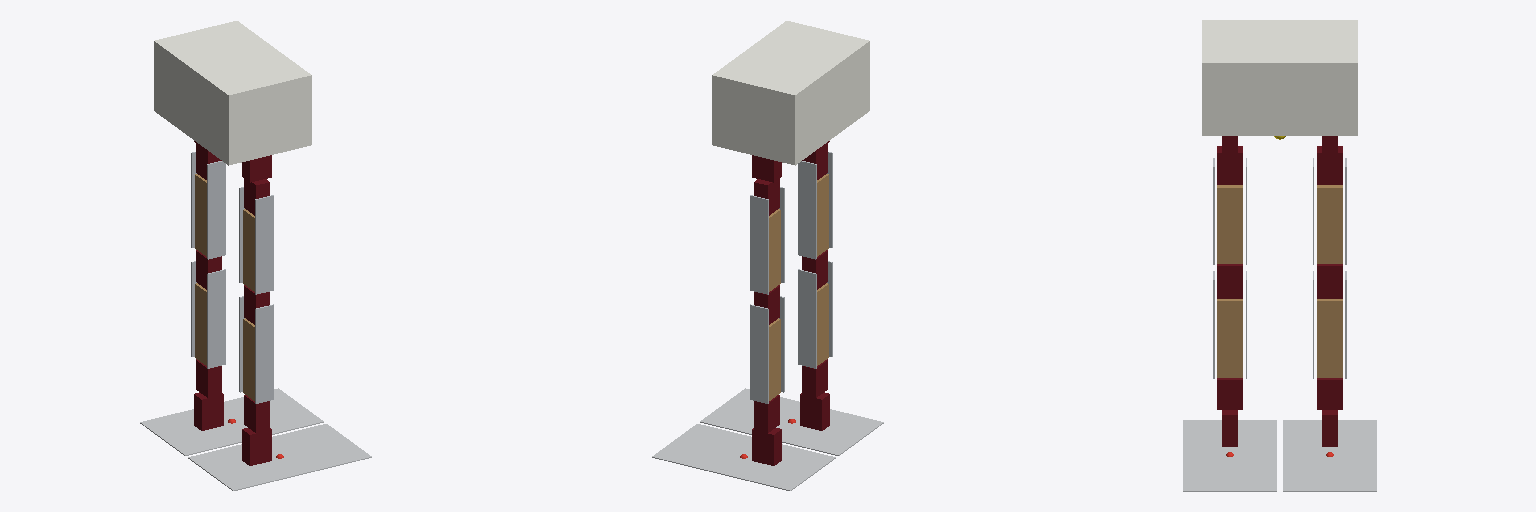
URDF robot description (yuuki_biped):
<?xml version="1.0"?>
<!--
  yuuki_biped
  generate_urdf.py が yuuki_biped.yaml から生成した。このファイルは手で編集しない。

  原点: 股ロール軸の高さ、左右中央。カゴの箱はその 0.017 m 上から始まる。
  x 前、y 左、z 上。ベースは地面に固定していない。
  股ロール軸: x=0 m, y=±0.09 m
  サーボ軸間（板なし）: 0.065 m
  腿・脛の軸間: 0.226 m
  直立時、原点から足裏まで: 0.64 m
  直立時、足裏からカゴ天面まで: 0.802 m
  総質量（参照フレームの微小質量を含む）: 4.6543 kg

  関節の原点は寸法式のまま。衝突箱は clearance だけ離し、サーボが板や電池や隣のサーボに入らない。
  股と足首のサーボは下端だけ短くして、次のサーボとのあいだに金具の隙間を空ける。
  ロール軸のサーボ（股ロール、足首ロール）はケースを 90 度回し、隣のピッチサーボと互い違いにする。
  電池はセル寸法ではなく、側板のあいだのダンボール。質量はセルのまま。
-->
<robot name="yuuki_biped">
  <link name="basket">
    <inertial>
      <origin xyz="0 0 0.0895" rpy="0 0 0"/>
      <mass value="0.6"/>
      <inertia ixx="0.004971" ixy="0" ixz="0" iyy="0.002671" iyz="0" izz="0.00554"/>
    </inertial>
    <visual name="basket_basket_0">
      <origin xyz="0 0 0.0895" rpy="0 0 0"/>
      <geometry>
        <box size="0.18 0.28 0.145"/>
      </geometry>
      <material>
        <color rgba="0.93 0.93 0.9 1"/>
      </material>
    </visual>
    <collision name="basket_basket_0">
      <origin xyz="0 0 0.0895" rpy="0 0 0"/>
      <geometry>
        <box size="0.18 0.28 0.145"/>
      </geometry>
    </collision>
  </link>
  <link name="imu_link">
    <inertial>
      <origin xyz="0 0 0" rpy="0 0 0"/>
      <mass value="0.0001"/>
      <inertia ixx="0" ixy="0" ixz="0" iyy="0" iyz="0" izz="0"/>
    </inertial>
    <visual name="imu_link_imu_0">
      <origin xyz="0 0 0" rpy="0 0 0"/>
      <geometry>
        <sphere radius="0.012"/>
      </geometry>
      <material>
        <color rgba="0.95 0.85 0.15 1"/>
      </material>
    </visual>
  </link>
  <link name="left_hip">
    <inertial>
      <origin xyz="0 0 -0.0175" rpy="0 0 0"/>
      <mass value="0.18"/>
      <inertia ixx="0.000069" ixy="0" ixz="0" iyy="0.00009" iyz="0" izz="0.000048"/>
    </inertial>
    <visual name="left_hip_servo_0">
      <origin xyz="0 0 -0.0175" rpy="0 0 0"/>
      <geometry>
        <box size="0.048 0.03 0.061"/>
      </geometry>
      <material>
        <color rgba="0.45 0.12 0.16 1"/>
      </material>
    </visual>
    <collision name="left_hip_servo_0">
      <origin xyz="0 0 -0.0175" rpy="0 0 0"/>
      <geometry>
        <box size="0.048 0.03 0.061"/>
      </geometry>
    </collision>
  </link>
  <link name="left_thigh">
    <inertial>
      <origin xyz="0 0 -0.09459" rpy="0 0 0"/>
      <mass value="0.608"/>
      <inertia ixx="0.002741" ixy="0" ixz="0" iyy="0.002595" iyz="0" izz="0.000258"/>
    </inertial>
    <visual name="left_thigh_servo_0">
      <origin xyz="0 0 -0.0195" rpy="0 0 0"/>
      <geometry>
        <box size="0.03 0.048 0.065"/>
      </geometry>
      <material>
        <color rgba="0.45 0.12 0.16 1"/>
      </material>
    </visual>
    <collision name="left_thigh_servo_0">
      <origin xyz="0 0 -0.0195" rpy="0 0 0"/>
      <geometry>
        <box size="0.03 0.048 0.065"/>
      </geometry>
    </collision>
    <visual name="left_thigh_plate_1">
      <origin xyz="0 0.0295 -0.111" rpy="0 0 0"/>
      <geometry>
        <box size="0.04 0.003 0.196"/>
      </geometry>
      <material>
        <color rgba="0.78 0.8 0.82 1"/>
      </material>
    </visual>
    <collision name="left_thigh_plate_1">
      <origin xyz="0 0.0295 -0.111" rpy="0 0 0"/>
      <geometry>
        <box size="0.04 0.003 0.196"/>
      </geometry>
    </collision>
    <visual name="left_thigh_plate_2">
      <origin xyz="0 -0.0295 -0.111" rpy="0 0 0"/>
      <geometry>
        <box size="0.04 0.003 0.196"/>
      </geometry>
      <material>
        <color rgba="0.78 0.8 0.82 1"/>
      </material>
    </visual>
    <collision name="left_thigh_plate_2">
      <origin xyz="0 -0.0295 -0.111" rpy="0 0 0"/>
      <geometry>
        <box size="0.04 0.003 0.196"/>
      </geometry>
    </collision>
    <visual name="left_thigh_battery_3">
      <origin xyz="0 0 -0.1325" rpy="0 0 0"/>
      <geometry>
        <box size="0.032 0.048 0.153"/>
      </geometry>
      <material>
        <color rgba="0.72 0.58 0.4 1"/>
      </material>
    </visual>
    <collision name="left_thigh_battery_3">
      <origin xyz="0 0 -0.1325" rpy="0 0 0"/>
      <geometry>
        <box size="0.032 0.048 0.153"/>
      </geometry>
    </collision>
  </link>
  <link name="left_shin">
    <inertial>
      <origin xyz="0 0 -0.09459" rpy="0 0 0"/>
      <mass value="0.608"/>
      <inertia ixx="0.002741" ixy="0" ixz="0" iyy="0.002595" iyz="0" izz="0.000258"/>
    </inertial>
    <visual name="left_shin_servo_0">
      <origin xyz="0 0 -0.0195" rpy="0 0 0"/>
      <geometry>
        <box size="0.03 0.048 0.065"/>
      </geometry>
      <material>
        <color rgba="0.45 0.12 0.16 1"/>
      </material>
    </visual>
    <collision name="left_shin_servo_0">
      <origin xyz="0 0 -0.0195" rpy="0 0 0"/>
      <geometry>
        <box size="0.03 0.048 0.065"/>
      </geometry>
    </collision>
    <visual name="left_shin_plate_1">
      <origin xyz="0 0.0295 -0.111" rpy="0 0 0"/>
      <geometry>
        <box size="0.04 0.003 0.196"/>
      </geometry>
      <material>
        <color rgba="0.78 0.8 0.82 1"/>
      </material>
    </visual>
    <collision name="left_shin_plate_1">
      <origin xyz="0 0.0295 -0.111" rpy="0 0 0"/>
      <geometry>
        <box size="0.04 0.003 0.196"/>
      </geometry>
    </collision>
    <visual name="left_shin_plate_2">
      <origin xyz="0 -0.0295 -0.111" rpy="0 0 0"/>
      <geometry>
        <box size="0.04 0.003 0.196"/>
      </geometry>
      <material>
        <color rgba="0.78 0.8 0.82 1"/>
      </material>
    </visual>
    <collision name="left_shin_plate_2">
      <origin xyz="0 -0.0295 -0.111" rpy="0 0 0"/>
      <geometry>
        <box size="0.04 0.003 0.196"/>
      </geometry>
    </collision>
    <visual name="left_shin_battery_3">
      <origin xyz="0 0 -0.1325" rpy="0 0 0"/>
      <geometry>
        <box size="0.032 0.048 0.153"/>
      </geometry>
      <material>
        <color rgba="0.72 0.58 0.4 1"/>
      </material>
    </visual>
    <collision name="left_shin_battery_3">
      <origin xyz="0 0 -0.1325" rpy="0 0 0"/>
      <geometry>
        <box size="0.032 0.048 0.153"/>
      </geometry>
    </collision>
  </link>
  <link name="left_ankle">
    <inertial>
      <origin xyz="0 0 -0.0175" rpy="0 0 0"/>
      <mass value="0.18"/>
      <inertia ixx="0.00009" ixy="0" ixz="0" iyy="0.000069" iyz="0" izz="0.000048"/>
    </inertial>
    <visual name="left_ankle_servo_0">
      <origin xyz="0 0 -0.0175" rpy="0 0 0"/>
      <geometry>
        <box size="0.03 0.048 0.061"/>
      </geometry>
      <material>
        <color rgba="0.45 0.12 0.16 1"/>
      </material>
    </visual>
    <collision name="left_ankle_servo_0">
      <origin xyz="0 0 -0.0175" rpy="0 0 0"/>
      <geometry>
        <box size="0.03 0.048 0.061"/>
      </geometry>
    </collision>
  </link>
  <link name="left_foot">
    <inertial>
      <origin xyz="0.030044 0 -0.042033" rpy="0 0 0"/>
      <mass value="0.451"/>
      <inertia ixx="0.000882" ixy="0" ixz="0.000203" iyy="0.002553" iyz="0" izz="0.003004"/>
    </inertial>
    <visual name="left_foot_servo_0">
      <origin xyz="0 0 -0.0195" rpy="0 0 0"/>
      <geometry>
        <box size="0.048 0.03 0.065"/>
      </geometry>
      <material>
        <color rgba="0.45 0.12 0.16 1"/>
      </material>
    </visual>
    <collision name="left_foot_servo_0">
      <origin xyz="0 0 -0.0195" rpy="0 0 0"/>
      <geometry>
        <box size="0.048 0.03 0.065"/>
      </geometry>
    </collision>
    <visual name="left_foot_foot_plate_1">
      <origin xyz="0.05 0 -0.057" rpy="0 0 0"/>
      <geometry>
        <box size="0.3 0.17 0.002"/>
      </geometry>
      <material>
        <color rgba="0.82 0.83 0.84 1"/>
      </material>
    </visual>
    <collision name="left_foot_foot_plate_1">
      <origin xyz="0.05 0 -0.057" rpy="0 0 0"/>
      <geometry>
        <box size="0.3 0.17 0.002"/>
      </geometry>
    </collision>
  </link>
  <link name="left_sole">
    <inertial>
      <origin xyz="0 0 0" rpy="0 0 0"/>
      <mass value="0.0001"/>
      <inertia ixx="0" ixy="0" ixz="0" iyy="0" iyz="0" izz="0"/>
    </inertial>
    <visual name="left_sole_sole_marker_0">
      <origin xyz="0 0 0" rpy="0 0 0"/>
      <geometry>
        <sphere radius="0.008"/>
      </geometry>
      <material>
        <color rgba="0.85 0.25 0.2 1"/>
      </material>
    </visual>
  </link>
  <link name="right_hip">
    <inertial>
      <origin xyz="0 0 -0.0175" rpy="0 0 0"/>
      <mass value="0.18"/>
      <inertia ixx="0.000069" ixy="0" ixz="0" iyy="0.00009" iyz="0" izz="0.000048"/>
    </inertial>
    <visual name="right_hip_servo_0">
      <origin xyz="0 0 -0.0175" rpy="0 0 0"/>
      <geometry>
        <box size="0.048 0.03 0.061"/>
      </geometry>
      <material>
        <color rgba="0.45 0.12 0.16 1"/>
      </material>
    </visual>
    <collision name="right_hip_servo_0">
      <origin xyz="0 0 -0.0175" rpy="0 0 0"/>
      <geometry>
        <box size="0.048 0.03 0.061"/>
      </geometry>
    </collision>
  </link>
  <link name="right_thigh">
    <inertial>
      <origin xyz="0 0 -0.09459" rpy="0 0 0"/>
      <mass value="0.608"/>
      <inertia ixx="0.002741" ixy="0" ixz="0" iyy="0.002595" iyz="0" izz="0.000258"/>
    </inertial>
    <visual name="right_thigh_servo_0">
      <origin xyz="0 0 -0.0195" rpy="0 0 0"/>
      <geometry>
        <box size="0.03 0.048 0.065"/>
      </geometry>
      <material>
        <color rgba="0.45 0.12 0.16 1"/>
      </material>
    </visual>
    <collision name="right_thigh_servo_0">
      <origin xyz="0 0 -0.0195" rpy="0 0 0"/>
      <geometry>
        <box size="0.03 0.048 0.065"/>
      </geometry>
    </collision>
    <visual name="right_thigh_plate_1">
      <origin xyz="0 0.0295 -0.111" rpy="0 0 0"/>
      <geometry>
        <box size="0.04 0.003 0.196"/>
      </geometry>
      <material>
        <color rgba="0.78 0.8 0.82 1"/>
      </material>
    </visual>
    <collision name="right_thigh_plate_1">
      <origin xyz="0 0.0295 -0.111" rpy="0 0 0"/>
      <geometry>
        <box size="0.04 0.003 0.196"/>
      </geometry>
    </collision>
    <visual name="right_thigh_plate_2">
      <origin xyz="0 -0.0295 -0.111" rpy="0 0 0"/>
      <geometry>
        <box size="0.04 0.003 0.196"/>
      </geometry>
      <material>
        <color rgba="0.78 0.8 0.82 1"/>
      </material>
    </visual>
    <collision name="right_thigh_plate_2">
      <origin xyz="0 -0.0295 -0.111" rpy="0 0 0"/>
      <geometry>
        <box size="0.04 0.003 0.196"/>
      </geometry>
    </collision>
    <visual name="right_thigh_battery_3">
      <origin xyz="0 0 -0.1325" rpy="0 0 0"/>
      <geometry>
        <box size="0.032 0.048 0.153"/>
      </geometry>
      <material>
        <color rgba="0.72 0.58 0.4 1"/>
      </material>
    </visual>
    <collision name="right_thigh_battery_3">
      <origin xyz="0 0 -0.1325" rpy="0 0 0"/>
      <geometry>
        <box size="0.032 0.048 0.153"/>
      </geometry>
    </collision>
  </link>
  <link name="right_shin">
    <inertial>
      <origin xyz="0 0 -0.09459" rpy="0 0 0"/>
      <mass value="0.608"/>
      <inertia ixx="0.002741" ixy="0" ixz="0" iyy="0.002595" iyz="0" izz="0.000258"/>
    </inertial>
    <visual name="right_shin_servo_0">
      <origin xyz="0 0 -0.0195" rpy="0 0 0"/>
      <geometry>
        <box size="0.03 0.048 0.065"/>
      </geometry>
      <material>
        <color rgba="0.45 0.12 0.16 1"/>
      </material>
    </visual>
    <collision name="right_shin_servo_0">
      <origin xyz="0 0 -0.0195" rpy="0 0 0"/>
      <geometry>
        <box size="0.03 0.048 0.065"/>
      </geometry>
    </collision>
    <visual name="right_shin_plate_1">
      <origin xyz="0 0.0295 -0.111" rpy="0 0 0"/>
      <geometry>
        <box size="0.04 0.003 0.196"/>
      </geometry>
      <material>
        <color rgba="0.78 0.8 0.82 1"/>
      </material>
    </visual>
    <collision name="right_shin_plate_1">
      <origin xyz="0 0.0295 -0.111" rpy="0 0 0"/>
      <geometry>
        <box size="0.04 0.003 0.196"/>
      </geometry>
    </collision>
    <visual name="right_shin_plate_2">
      <origin xyz="0 -0.0295 -0.111" rpy="0 0 0"/>
      <geometry>
        <box size="0.04 0.003 0.196"/>
      </geometry>
      <material>
        <color rgba="0.78 0.8 0.82 1"/>
      </material>
    </visual>
    <collision name="right_shin_plate_2">
      <origin xyz="0 -0.0295 -0.111" rpy="0 0 0"/>
      <geometry>
        <box size="0.04 0.003 0.196"/>
      </geometry>
    </collision>
    <visual name="right_shin_battery_3">
      <origin xyz="0 0 -0.1325" rpy="0 0 0"/>
      <geometry>
        <box size="0.032 0.048 0.153"/>
      </geometry>
      <material>
        <color rgba="0.72 0.58 0.4 1"/>
      </material>
    </visual>
    <collision name="right_shin_battery_3">
      <origin xyz="0 0 -0.1325" rpy="0 0 0"/>
      <geometry>
        <box size="0.032 0.048 0.153"/>
      </geometry>
    </collision>
  </link>
  <link name="right_ankle">
    <inertial>
      <origin xyz="0 0 -0.0175" rpy="0 0 0"/>
      <mass value="0.18"/>
      <inertia ixx="0.00009" ixy="0" ixz="0" iyy="0.000069" iyz="0" izz="0.000048"/>
    </inertial>
    <visual name="right_ankle_servo_0">
      <origin xyz="0 0 -0.0175" rpy="0 0 0"/>
      <geometry>
        <box size="0.03 0.048 0.061"/>
      </geometry>
      <material>
        <color rgba="0.45 0.12 0.16 1"/>
      </material>
    </visual>
    <collision name="right_ankle_servo_0">
      <origin xyz="0 0 -0.0175" rpy="0 0 0"/>
      <geometry>
        <box size="0.03 0.048 0.061"/>
      </geometry>
    </collision>
  </link>
  <link name="right_foot">
    <inertial>
      <origin xyz="0.030044 0 -0.042033" rpy="0 0 0"/>
      <mass value="0.451"/>
      <inertia ixx="0.000882" ixy="0" ixz="0.000203" iyy="0.002553" iyz="0" izz="0.003004"/>
    </inertial>
    <visual name="right_foot_servo_0">
      <origin xyz="0 0 -0.0195" rpy="0 0 0"/>
      <geometry>
        <box size="0.048 0.03 0.065"/>
      </geometry>
      <material>
        <color rgba="0.45 0.12 0.16 1"/>
      </material>
    </visual>
    <collision name="right_foot_servo_0">
      <origin xyz="0 0 -0.0195" rpy="0 0 0"/>
      <geometry>
        <box size="0.048 0.03 0.065"/>
      </geometry>
    </collision>
    <visual name="right_foot_foot_plate_1">
      <origin xyz="0.05 0 -0.057" rpy="0 0 0"/>
      <geometry>
        <box size="0.3 0.17 0.002"/>
      </geometry>
      <material>
        <color rgba="0.82 0.83 0.84 1"/>
      </material>
    </visual>
    <collision name="right_foot_foot_plate_1">
      <origin xyz="0.05 0 -0.057" rpy="0 0 0"/>
      <geometry>
        <box size="0.3 0.17 0.002"/>
      </geometry>
    </collision>
  </link>
  <link name="right_sole">
    <inertial>
      <origin xyz="0 0 0" rpy="0 0 0"/>
      <mass value="0.0001"/>
      <inertia ixx="0" ixy="0" ixz="0" iyy="0" iyz="0" izz="0"/>
    </inertial>
    <visual name="right_sole_sole_marker_0">
      <origin xyz="0 0 0" rpy="0 0 0"/>
      <geometry>
        <sphere radius="0.008"/>
      </geometry>
      <material>
        <color rgba="0.85 0.25 0.2 1"/>
      </material>
    </visual>
  </link>
  <!-- IMU 候補の参照フレーム。位置は未確認。質量はほぼゼロ。 -->
  <joint name="imu_fixed" type="fixed">
    <parent link="basket"/>
    <child link="imu_link"/>
    <origin xyz="0 0 -0.02" rpy="0 0 0"/>
  </joint>
  <!-- 左股ロール。カゴ底面から股ロール軸まで。 -->
  <joint name="left_hip_roll" type="revolute">
    <parent link="basket"/>
    <child link="left_hip"/>
    <origin xyz="0 0.09 0" rpy="0 0 0"/>
    <axis xyz="1 0 0"/>
    <limit lower="-0.785398" upper="0.785398" effort="14.7" velocity="8"/>
    <dynamics damping="0" friction="0"/>
  </joint>
  <!-- 左股ピッチ。股ロール軸からサーボ1段分だけ下。 -->
  <joint name="left_hip_pitch" type="revolute">
    <parent link="left_hip"/>
    <child link="left_thigh"/>
    <origin xyz="0 0 -0.065" rpy="0 0 0"/>
    <axis xyz="0 1 0"/>
    <limit lower="-0.785398" upper="1.570796" effort="14.7" velocity="8"/>
    <dynamics damping="0" friction="0"/>
  </joint>
  <!-- 左膝。0 が伸び、正が後ろへの屈曲。 -->
  <joint name="left_knee_pitch" type="revolute">
    <parent link="left_thigh"/>
    <child link="left_shin"/>
    <origin xyz="0 0 -0.226" rpy="0 0 0"/>
    <axis xyz="0 1 0"/>
    <limit lower="0" upper="2.094395" effort="14.7" velocity="8"/>
    <dynamics damping="0" friction="0"/>
  </joint>
  <!-- 左足首ピッチ。膝から腿と同じ軸間距離だけ下。 -->
  <joint name="left_ankle_pitch" type="revolute">
    <parent link="left_shin"/>
    <child link="left_ankle"/>
    <origin xyz="0 0 -0.226" rpy="0 0 0"/>
    <axis xyz="0 1 0"/>
    <limit lower="-0.785398" upper="0.785398" effort="14.7" velocity="8"/>
    <dynamics damping="0" friction="0"/>
  </joint>
  <!-- 左足首ロール。足首ピッチ軸からサーボ1段分だけ下。 -->
  <joint name="left_ankle_roll" type="revolute">
    <parent link="left_ankle"/>
    <child link="left_foot"/>
    <origin xyz="0 0 -0.065" rpy="0 0 0"/>
    <axis xyz="1 0 0"/>
    <limit lower="-0.523599" upper="0.523599" effort="14.7" velocity="8"/>
    <dynamics damping="0" friction="0"/>
  </joint>
  <!-- 左足裏の下面中心。接触や接地判定の参照点。板の質量は left_foot 側。 -->
  <joint name="left_sole_fixed" type="fixed">
    <parent link="left_foot"/>
    <child link="left_sole"/>
    <origin xyz="0.05 0 -0.058" rpy="0 0 0"/>
  </joint>
  <!-- 右股ロール。カゴ底面から股ロール軸まで。 -->
  <joint name="right_hip_roll" type="revolute">
    <parent link="basket"/>
    <child link="right_hip"/>
    <origin xyz="0 -0.09 0" rpy="0 0 0"/>
    <axis xyz="-1 0 0"/>
    <limit lower="-0.785398" upper="0.785398" effort="14.7" velocity="8"/>
    <dynamics damping="0" friction="0"/>
  </joint>
  <!-- 右股ピッチ。股ロール軸からサーボ1段分だけ下。 -->
  <joint name="right_hip_pitch" type="revolute">
    <parent link="right_hip"/>
    <child link="right_thigh"/>
    <origin xyz="0 0 -0.065" rpy="0 0 0"/>
    <axis xyz="0 1 0"/>
    <limit lower="-0.785398" upper="1.570796" effort="14.7" velocity="8"/>
    <dynamics damping="0" friction="0"/>
  </joint>
  <!-- 右膝。0 が伸び、正が後ろへの屈曲。 -->
  <joint name="right_knee_pitch" type="revolute">
    <parent link="right_thigh"/>
    <child link="right_shin"/>
    <origin xyz="0 0 -0.226" rpy="0 0 0"/>
    <axis xyz="0 1 0"/>
    <limit lower="0" upper="2.094395" effort="14.7" velocity="8"/>
    <dynamics damping="0" friction="0"/>
  </joint>
  <!-- 右足首ピッチ。膝から腿と同じ軸間距離だけ下。 -->
  <joint name="right_ankle_pitch" type="revolute">
    <parent link="right_shin"/>
    <child link="right_ankle"/>
    <origin xyz="0 0 -0.226" rpy="0 0 0"/>
    <axis xyz="0 1 0"/>
    <limit lower="-0.785398" upper="0.785398" effort="14.7" velocity="8"/>
    <dynamics damping="0" friction="0"/>
  </joint>
  <!-- 右足首ロール。足首ピッチ軸からサーボ1段分だけ下。 -->
  <joint name="right_ankle_roll" type="revolute">
    <parent link="right_ankle"/>
    <child link="right_foot"/>
    <origin xyz="0 0 -0.065" rpy="0 0 0"/>
    <axis xyz="-1 0 0"/>
    <limit lower="-0.523599" upper="0.523599" effort="14.7" velocity="8"/>
    <dynamics damping="0" friction="0"/>
  </joint>
  <!-- 右足裏の下面中心。接触や接地判定の参照点。板の質量は right_foot 側。 -->
  <joint name="right_sole_fixed" type="fixed">
    <parent link="right_foot"/>
    <child link="right_sole"/>
    <origin xyz="0.05 0 -0.058" rpy="0 0 0"/>
  </joint>
</robot>

--- Facts derived from the render (not from the file) ---
3 views of the same robot in one strip: view 1: azimuth 30°, elevation 25°; view 2: azimuth 150°, elevation 25°; view 3: azimuth 270°, elevation 25° (orthographic).
Robot: yuuki_biped — 14 links, 13 joints (10 revolute, 3 fixed); root link basket; default pose: every joint at zero.
Links seen in each view (by area): view 1: basket, right_foot, left_foot, right_thigh, left_shin, right_shin, left_thigh, left_ankle, right_ankle, right_hip; view 2: basket, left_foot, right_foot, left_thigh, left_shin, right_shin, right_thigh, right_ankle, left_ankle, left_hip; view 3: basket, left_foot, right_foot, left_shin, right_shin, left_thigh, right_thigh, left_ankle, right_ankle.
Link boxes in pixels (x1,y1,x2,y2): basket: (154, 21, 311, 165); right_foot: (188, 424, 371, 490); left_foot: (140, 388, 323, 455); right_thigh: (239, 179, 273, 294); left_shin: (191, 250, 225, 368); right_shin: (239, 285, 273, 403); left_thigh: (191, 144, 225, 259); left_ankle: (196, 359, 221, 398); right_ankle: (244, 395, 269, 433); right_hip: (242, 155, 271, 182); basket: (712, 21, 869, 165); left_foot: (652, 424, 835, 490); right_foot: (700, 388, 883, 455); left_thigh: (750, 179, 784, 294); left_shin: (750, 285, 784, 403); right_shin: (798, 250, 832, 368); right_thigh: (798, 144, 832, 259); right_ankle: (802, 359, 827, 398); left_ankle: (754, 395, 779, 433); left_hip: (752, 155, 781, 182); basket: (1202, 20, 1357, 135); left_foot: (1283, 410, 1376, 491); right_foot: (1183, 410, 1276, 491); left_shin: (1313, 264, 1346, 378); right_shin: (1213, 264, 1246, 378); left_thigh: (1313, 146, 1346, 264); right_thigh: (1213, 146, 1246, 264); left_ankle: (1317, 378, 1342, 409); right_ankle: (1217, 378, 1242, 409).
Bounding box of the posed robot: 0.3 × 0.35 × 0.81 m (x, y, z).
Geometry: primitives only (box / cylinder / sphere), no mesh files.
